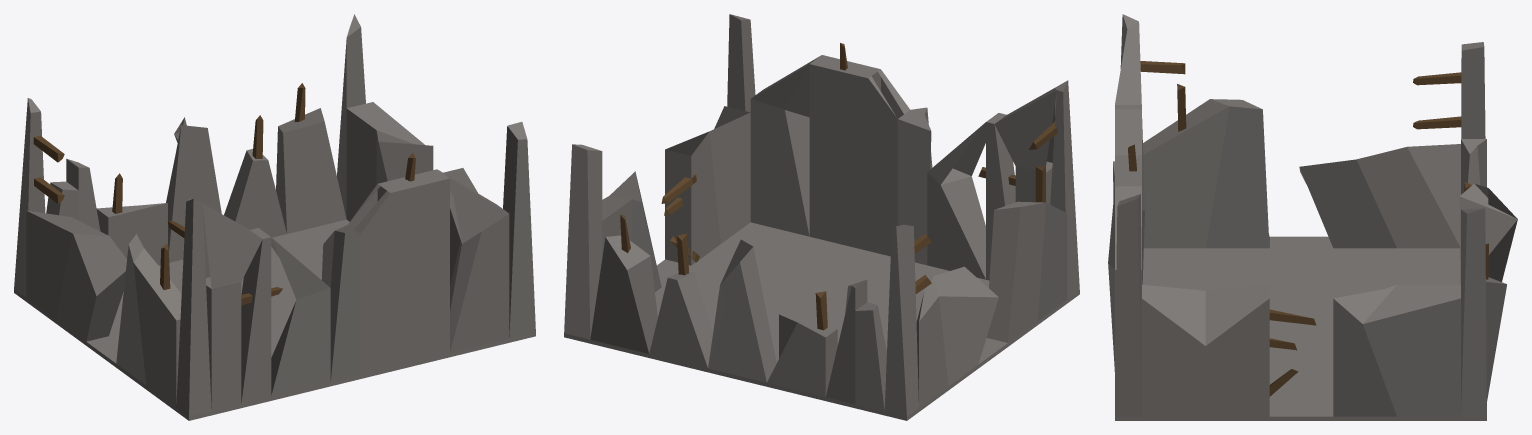
File: destroyedBuilding3.fbx
3 renders of one model, left to right at view 1: azimuth 30°, elevation 25°; view 2: azimuth 150°, elevation 25°; view 3: azimuth 270°, elevation 25°, orthographic. The views are drawn at different scales.
Visible parts, largest first — view 1: Cube; view 2: Cube; view 3: Cube.
Boxes of the visible parts, bbox=[...] form: Cube: bbox=[14, 14, 535, 420]; Cube: bbox=[564, 14, 1079, 420]; Cube: bbox=[1108, 14, 1517, 420].
Bounding box in the file's own units: 2666 × 1496 × 2403.
